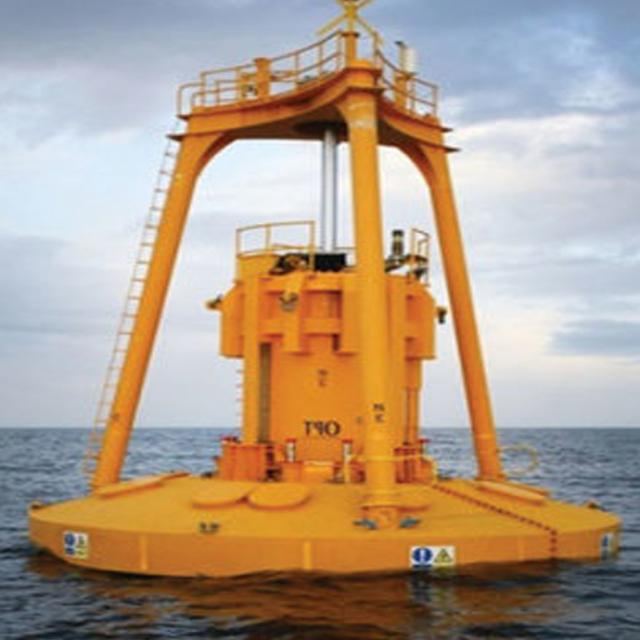buoy: (27, 0, 616, 576)
